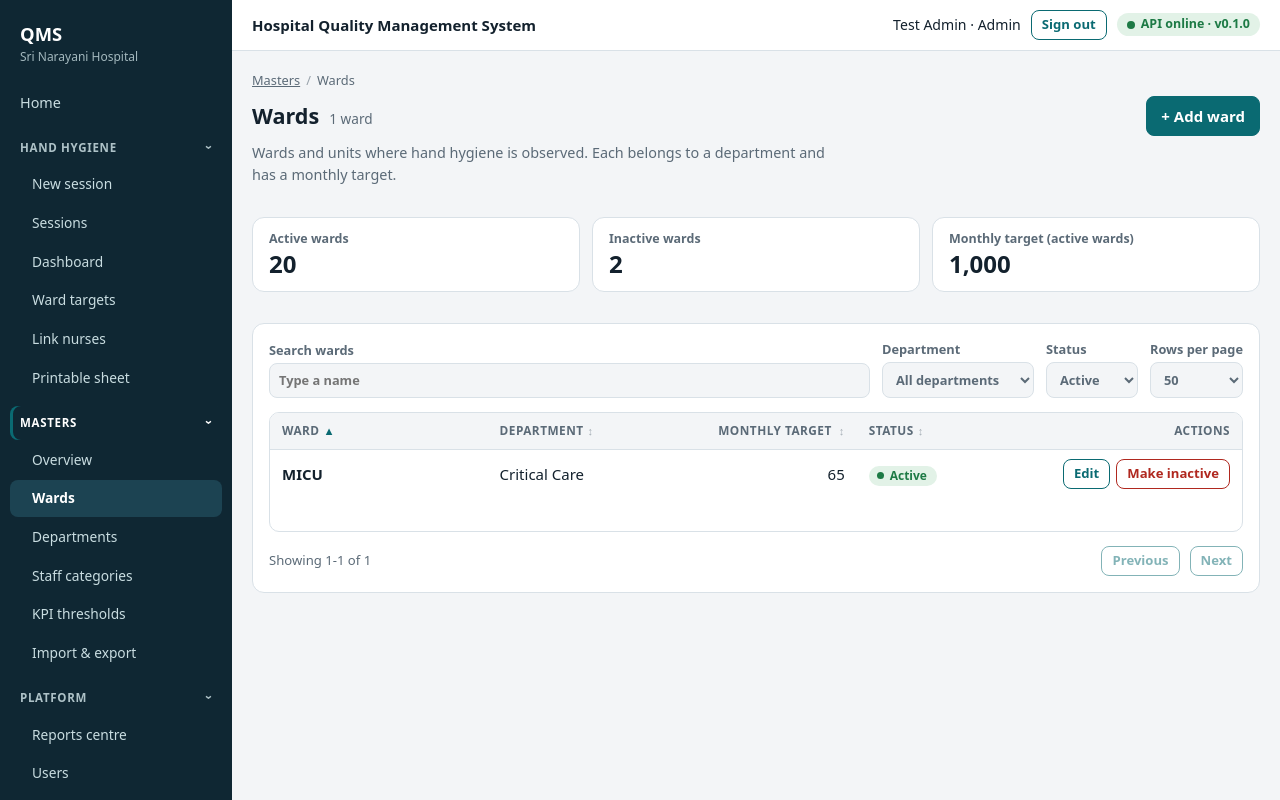
Wards page › closes the drawer with Escape
Check: the text "MICU" is shown, box [282,464,323,484]
Click the button with aria-label "Edit MICU": (1087,474) [1063,459,1110,489]
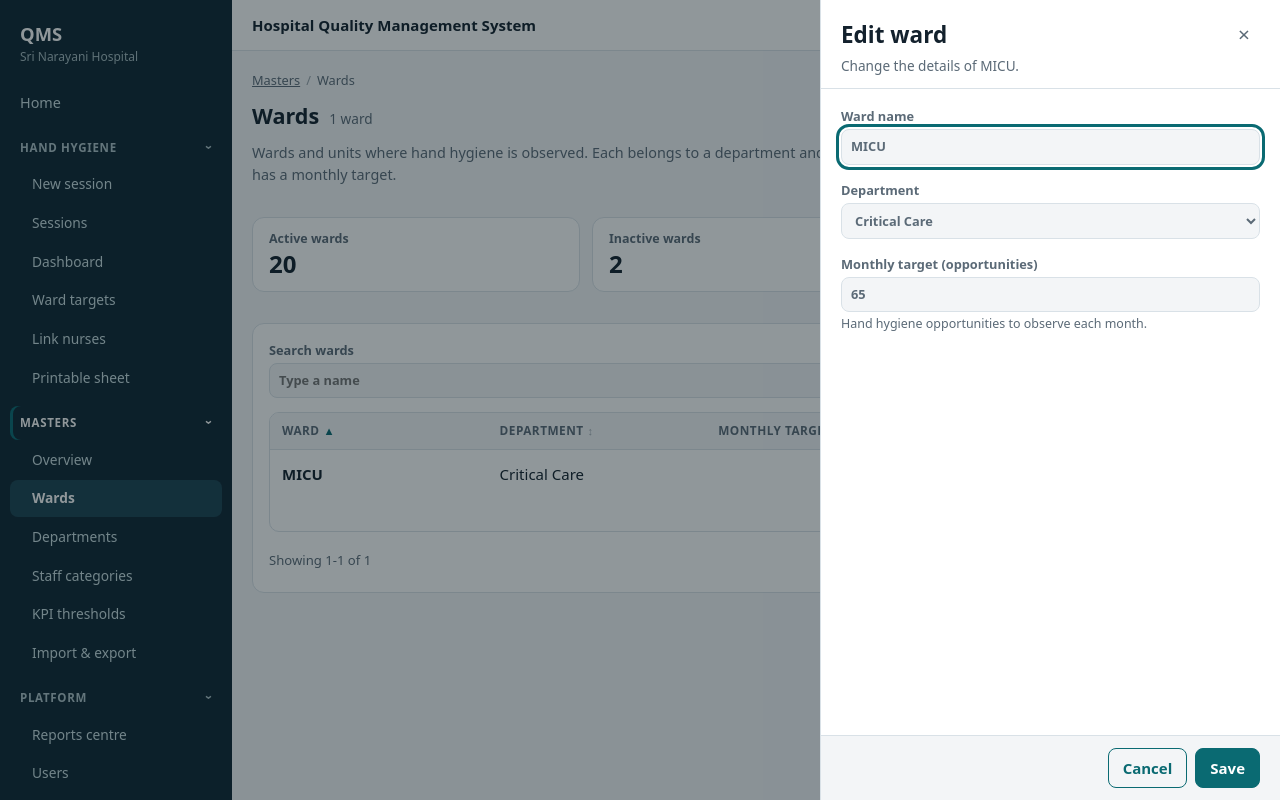
Check: the dialog "Edit ward" is shown, box [820,0,1279,799]
Press Escape
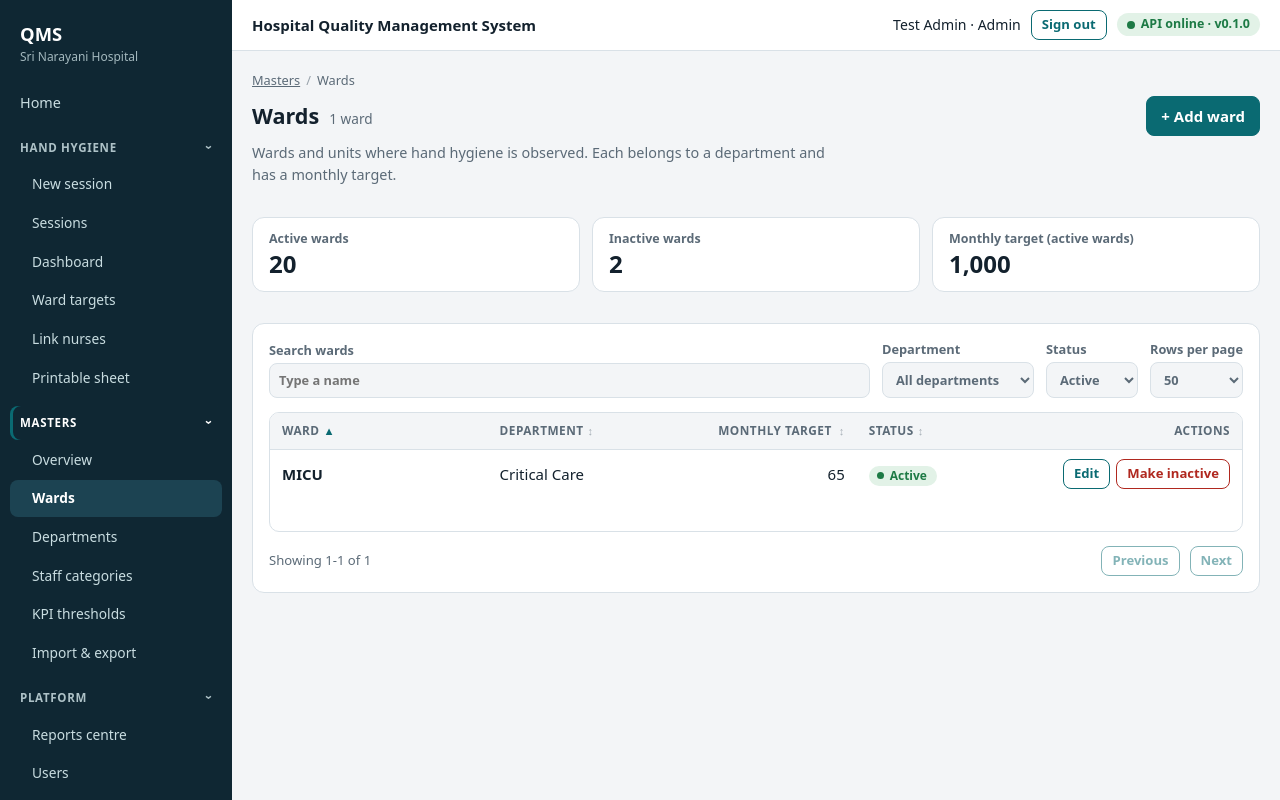
Check: the dialog is gone
